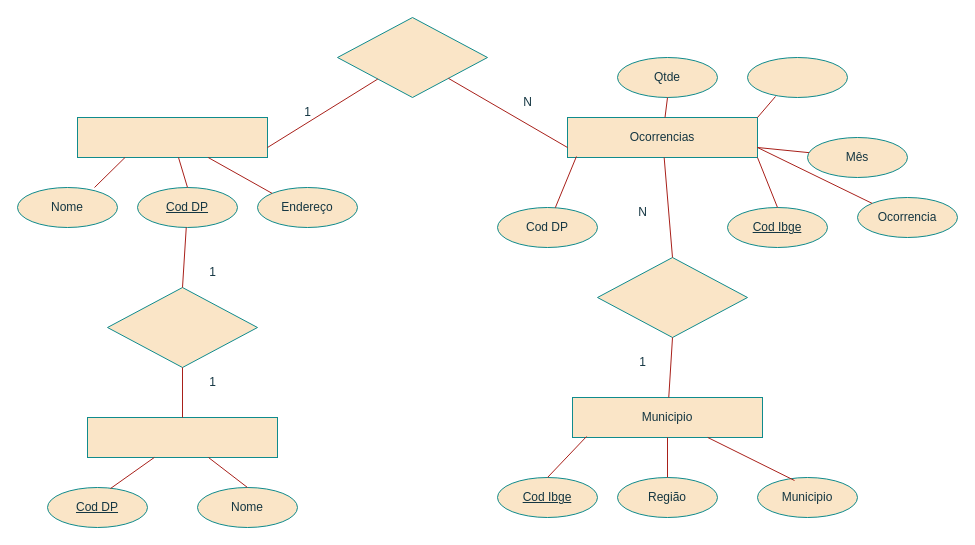
This 975x545 diagram has some shape labels left out. Each missing label, with the centre of its shape:
"Ano" belongs at (797,77).
"COORDENA" belongs at (182,327).
"DP" belongs at (172,137).
"POSSUI REGISTROS" belongs at (672,297).
"REGISTRA" belongs at (412,57).
"Responsável DP" belongs at (182,437).
